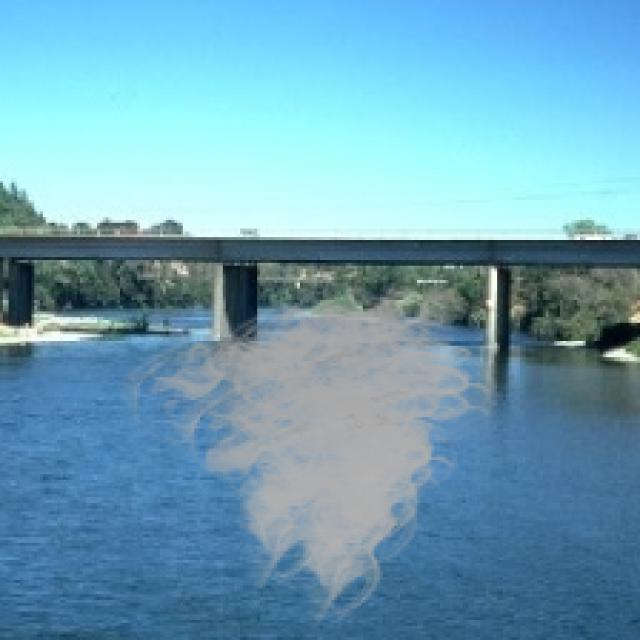Smoke: (117, 266, 506, 626)
